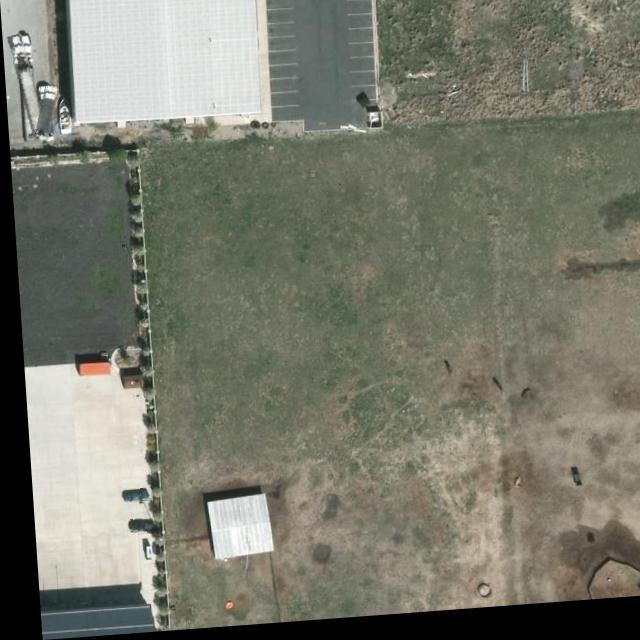vehicle: (11, 34, 42, 143), (33, 85, 57, 143), (121, 521, 149, 537), (115, 490, 144, 505)
